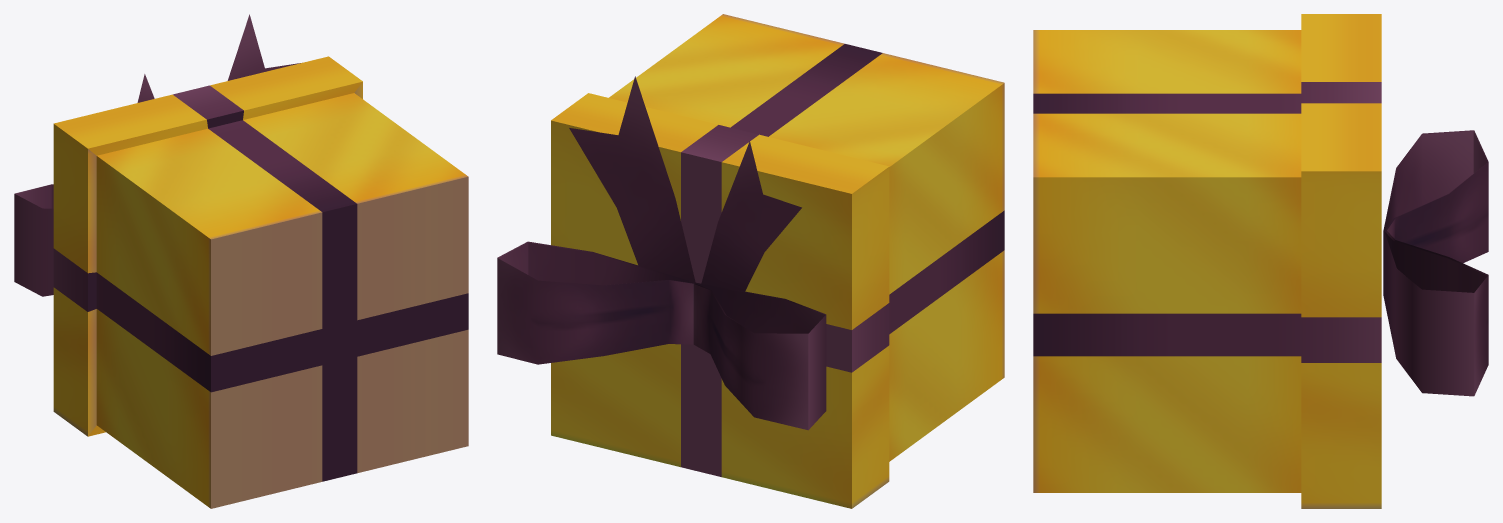
Rendered from Present_B.fbx.
3 views of the same model, side by side, from view 1: azimuth 30°, elevation 25°; view 2: azimuth 150°, elevation 25°; view 3: azimuth 270°, elevation 25° (orthographic). The views are drawn at different scales.
Visible parts, largest first — view 1: Present_B; view 2: Present_B; view 3: Present_B.
Part boxes in pixels (x1=…): Present_B: x1=14, y1=14, x2=468, y2=508; Present_B: x1=497, y1=14, x2=1004, y2=508; Present_B: x1=1033, y1=14, x2=1488, y2=508.
Bounding box in the file's own units: 15.04 × 17.6 × 17.77.
